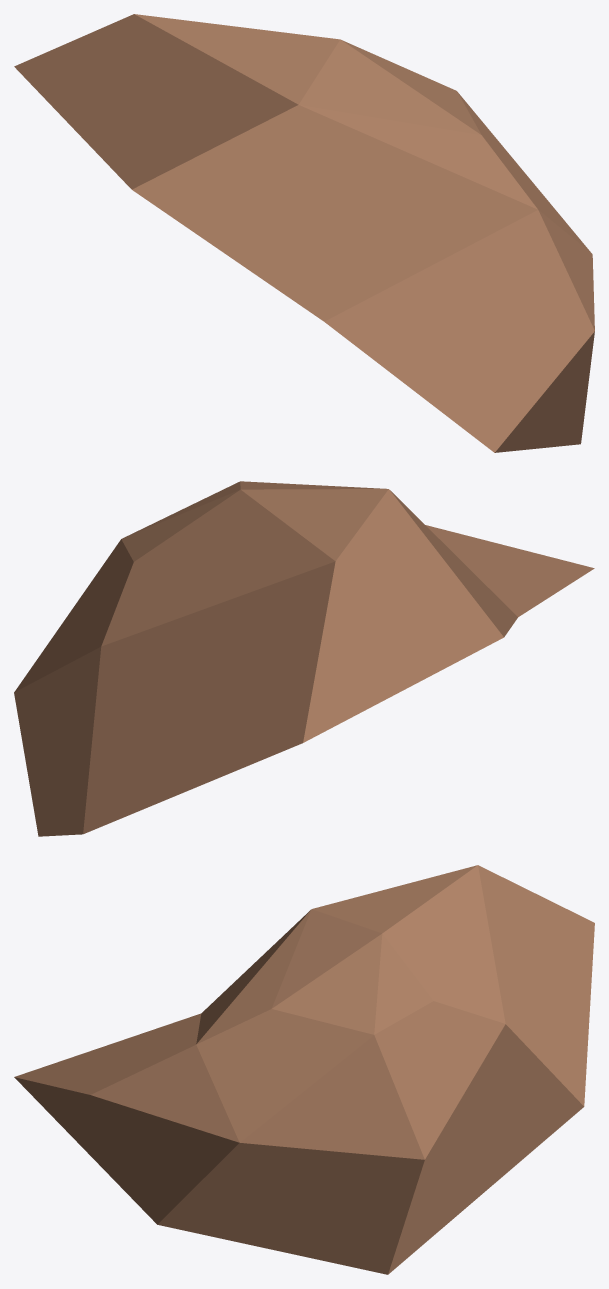
The model's file is stone2341.fbx.
3 renders of one model, top to bottom at view 1: azimuth 30°, elevation 25°; view 2: azimuth 150°, elevation 25°; view 3: azimuth 270°, elevation 25°, orthographic. The views are drawn at different scales.
Parts seen in each view (by area): view 1: Stone 2.002; view 2: Stone 2.002; view 3: Stone 2.002.
Part boxes in pixels (x1=…): Stone 2.002: x1=14, y1=14, x2=594, y2=452; Stone 2.002: x1=14, y1=481, x2=594, y2=836; Stone 2.002: x1=14, y1=865, x2=594, y2=1274.
Size of the model in its own units: 37.17 by 32.63 by 59.92.
